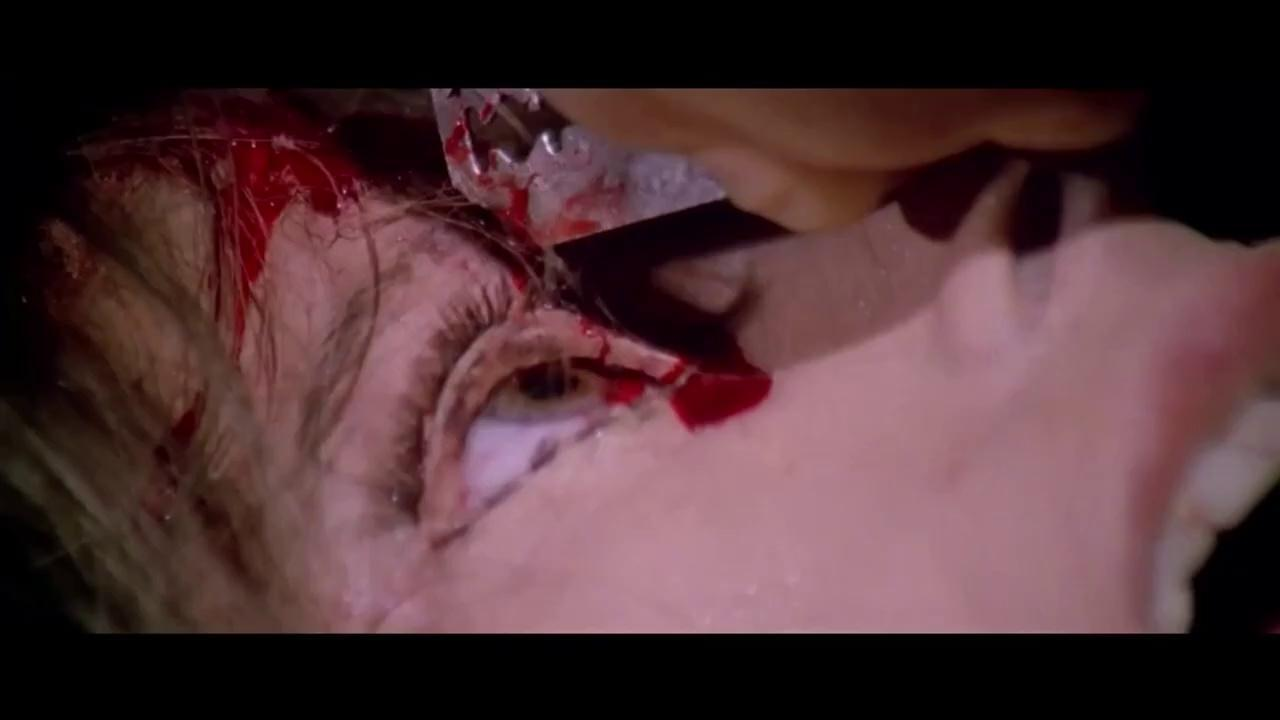Fire: (80, 89, 787, 532)
